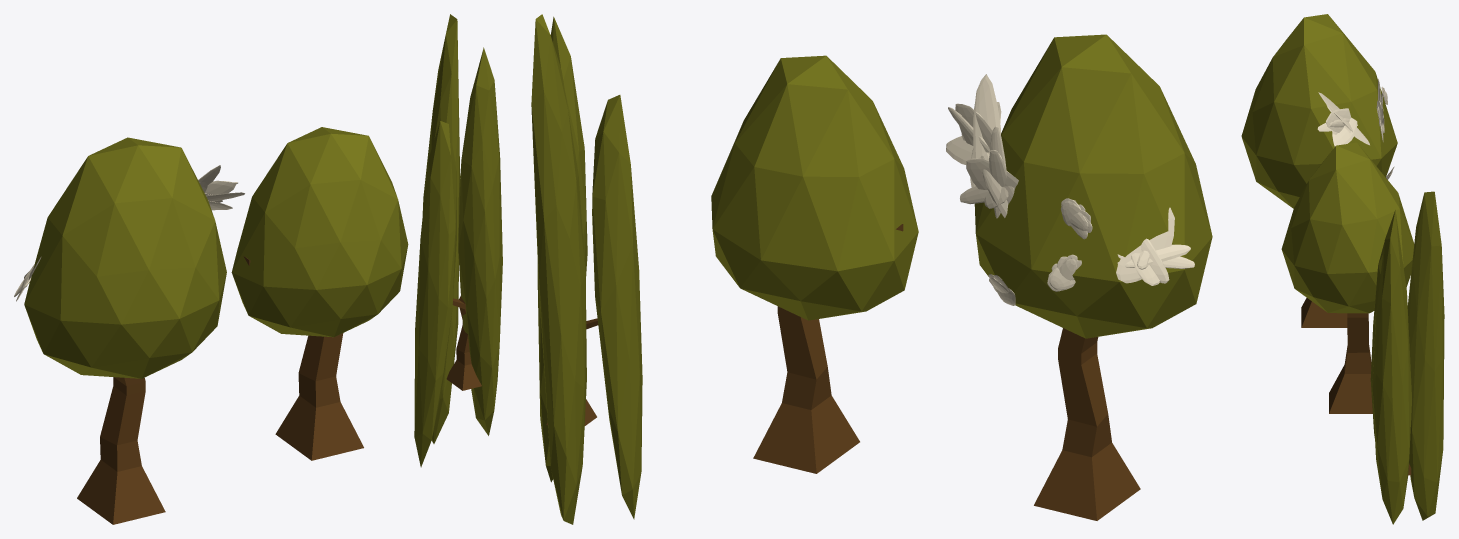
Rendered from Sabugueiro.fbx.
3 views of the same model, side by side, from view 1: azimuth 30°, elevation 25°; view 2: azimuth 150°, elevation 25°; view 3: azimuth 270°, elevation 25° (orthographic). The views are drawn at different scales.
Parts seen in each view (by area): view 1: Icosphere.002, Icosphere, Icosphere.001, Icosphere.003, Cube.001, Cube.002, Icosphere.004, Cube.003; view 2: Icosphere.002, Icosphere, Icosphere.004, Icosphere.003, Cube.001, Cube.002, Icosphere.001, Sphere.046, Sphere.037; view 3: Icosphere.002, Icosphere, Icosphere.004, Icosphere.001, Cube.002, Cube.001, Icosphere.003, Sphere.044, Sphere.042.
Boxes of the visible parts, box(x1,y1,x2,y2) form: Icosphere.002: box(24, 137, 226, 378); Icosphere: box(231, 127, 408, 337); Icosphere.001: box(458, 47, 502, 435); Icosphere.003: box(414, 121, 456, 467); Cube.001: box(77, 377, 165, 524); Cube.002: box(243, 256, 363, 460); Icosphere.004: box(422, 14, 460, 443); Cube.003: box(446, 296, 481, 390); Icosphere.002: box(974, 34, 1212, 338); Icosphere: box(711, 55, 918, 320); Icosphere.004: box(531, 14, 586, 524); Icosphere.003: box(592, 95, 642, 519); Cube.001: box(1034, 328, 1140, 520); Cube.002: box(753, 224, 903, 473); Icosphere.001: box(537, 16, 587, 482); Sphere.046: box(973, 74, 1000, 158); Sphere.037: box(1116, 207, 1174, 283); Icosphere.002: box(1241, 14, 1397, 208); Icosphere: box(1281, 142, 1414, 313); Icosphere.004: box(1407, 191, 1444, 520); Icosphere.001: box(1372, 209, 1411, 524); Cube.002: box(1329, 313, 1372, 413); Cube.001: box(1301, 298, 1347, 327); Icosphere.003: box(1370, 242, 1384, 437); Sphere.044: box(1332, 117, 1357, 146); Sphere.042: box(1325, 108, 1351, 132).
Bounding box in the file's own units: 999 × 827 × 424.
